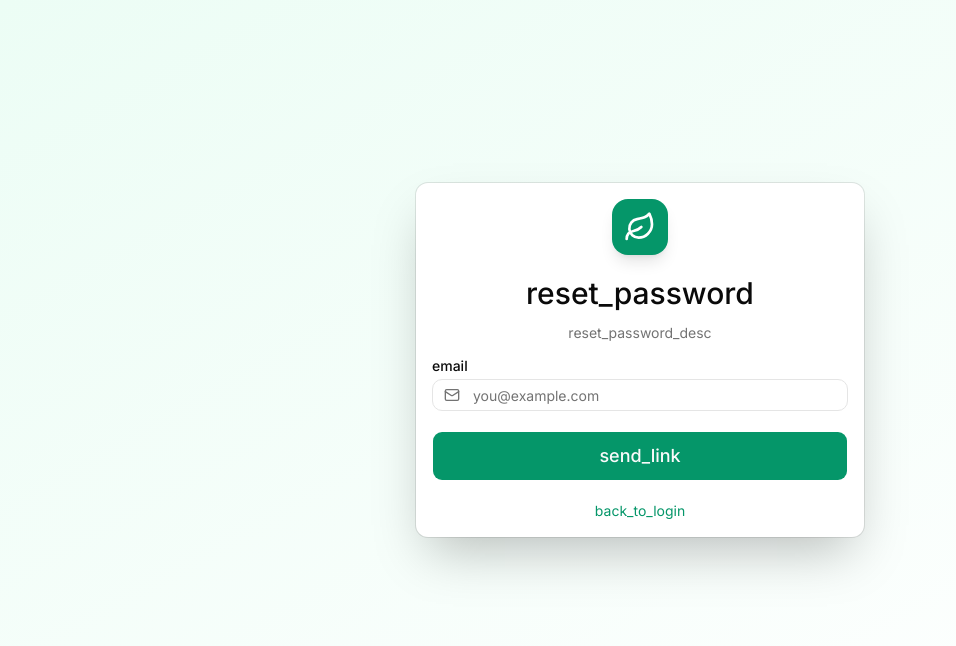
Test: ForgotPasswordPage › sends password reset email
This screenshot has width=956, height=646.
Expected: the text "reset_password" is shown, [526,275,754,311]
In the field labelled "email": (640, 395) [432,379,848,411], type "test@example.com"
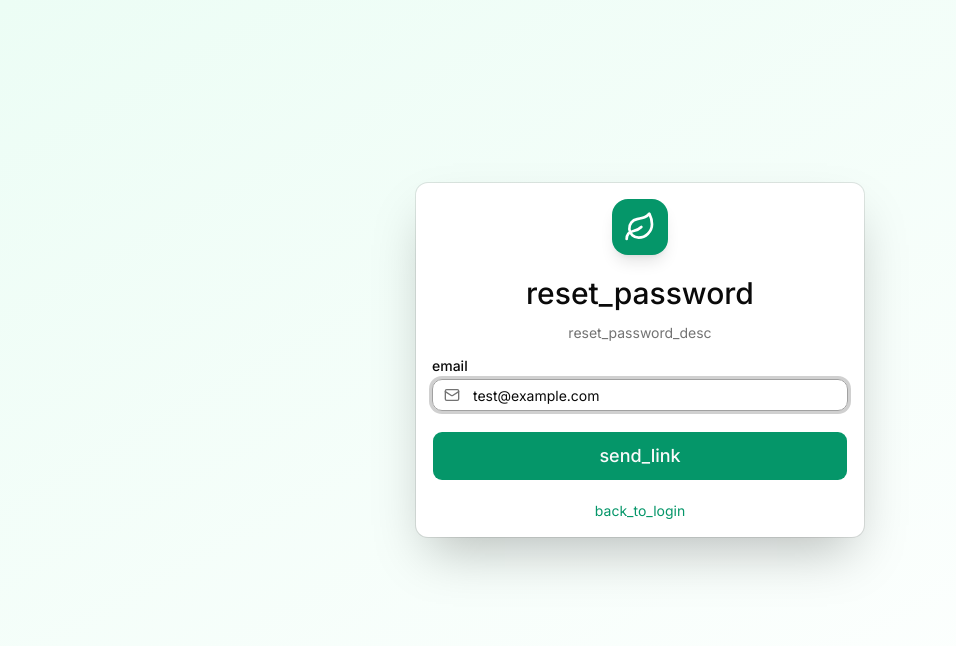
Click the button "send_link": (640, 456) [432,431,848,481]
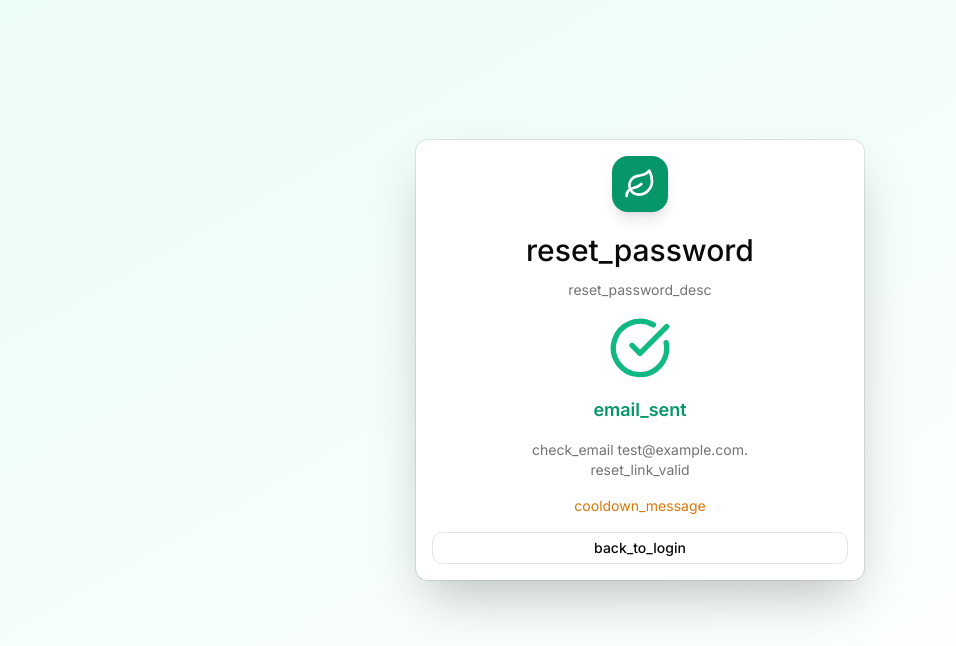
Now the text "email_sent" is shown, box [593,399,687,420]
